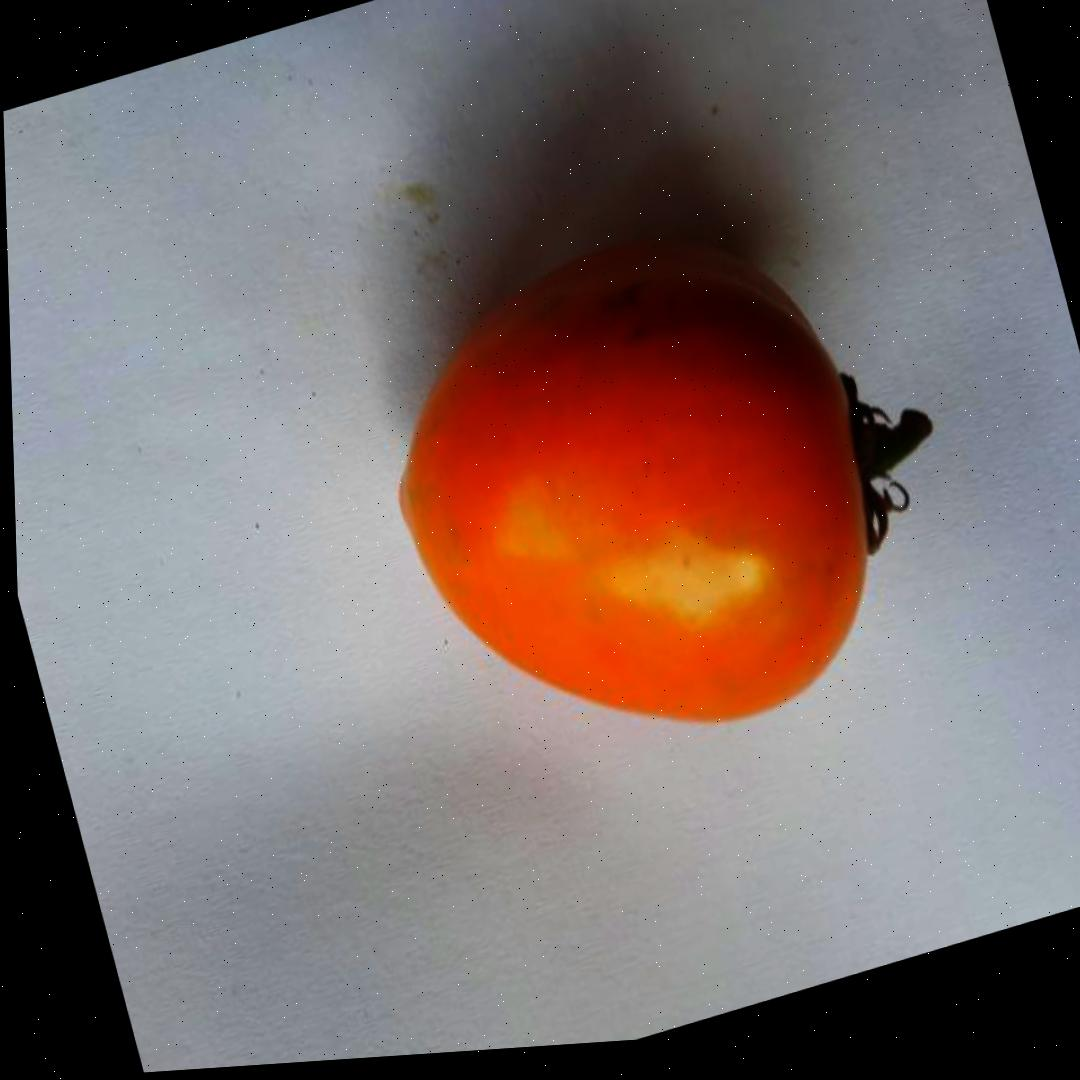setengah_matang: (341, 178, 926, 812)
